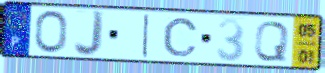3: (215, 16, 247, 63)
C: (161, 16, 200, 58)
I: (140, 13, 152, 60)
J: (72, 9, 107, 59)
O: (33, 9, 69, 55)
Q: (252, 20, 292, 63)
